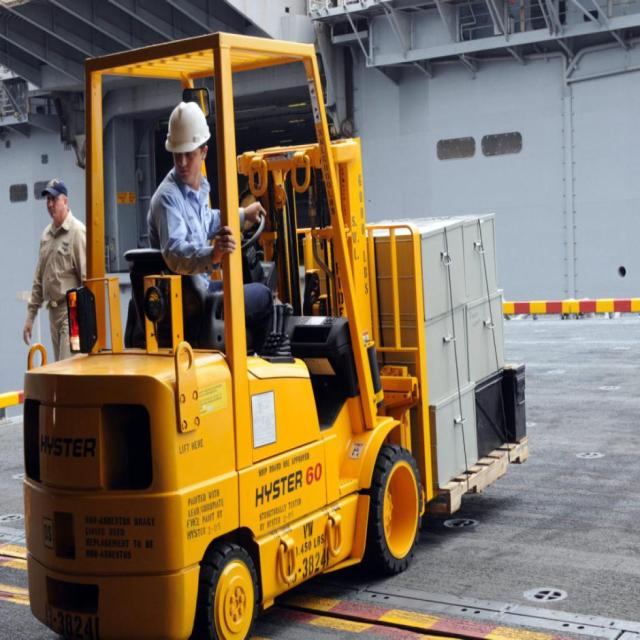forklift: (21, 16, 540, 638)
person: (139, 81, 281, 361), (15, 165, 99, 376)
